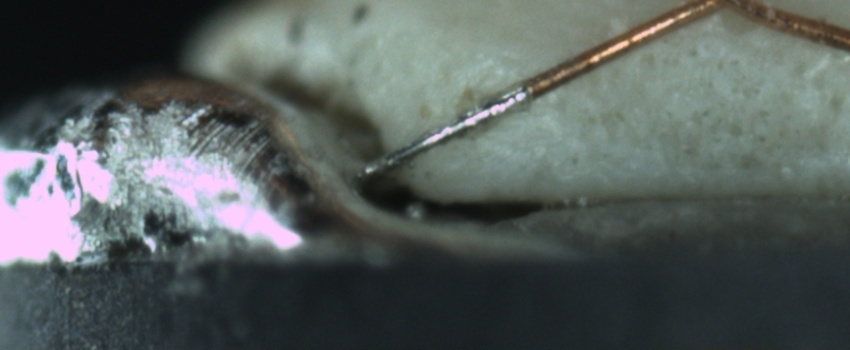CL: (685, 0, 771, 18)
TS: (364, 86, 534, 174)
